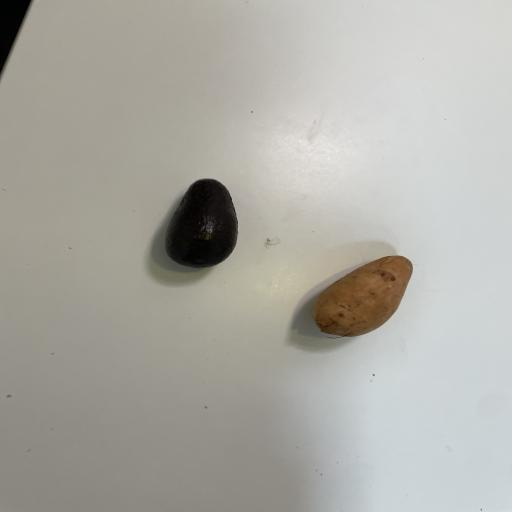avocado: (161, 175, 244, 275)
sweet_potato: (308, 250, 422, 342)
